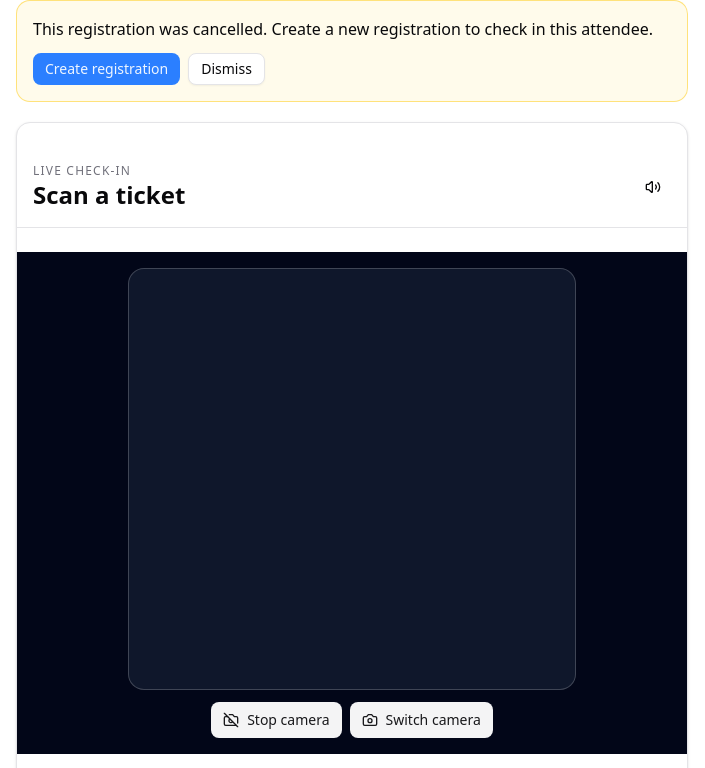
Test case: check-in scanner › submit_cancelled_outcomeRemainsUntilDismissed
Expected: the message shows "cancelled", [33, 18, 653, 40]
What coordinates should you click on to do the following:
click the button "Dismiss"
I would click on:
 (227, 69)
Its box is [188, 53, 265, 85].
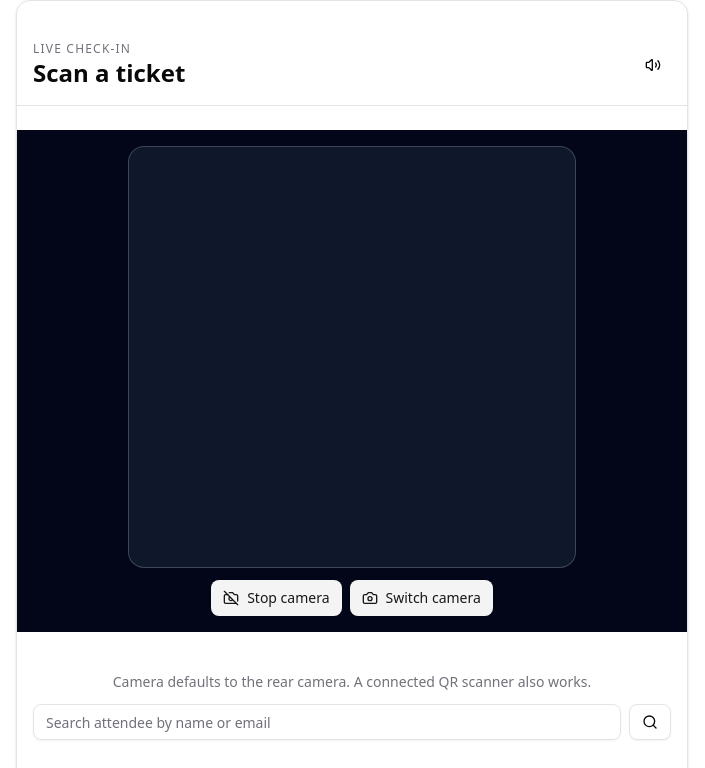
Expected: the message is gone
